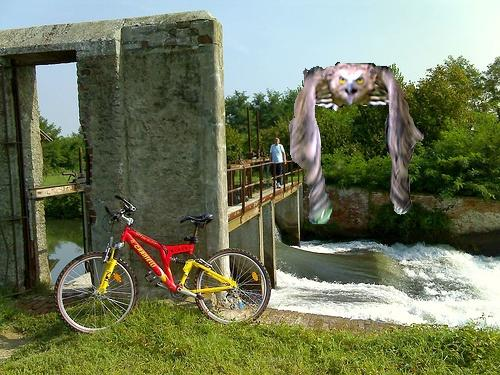tampered: (290, 63, 424, 224)
